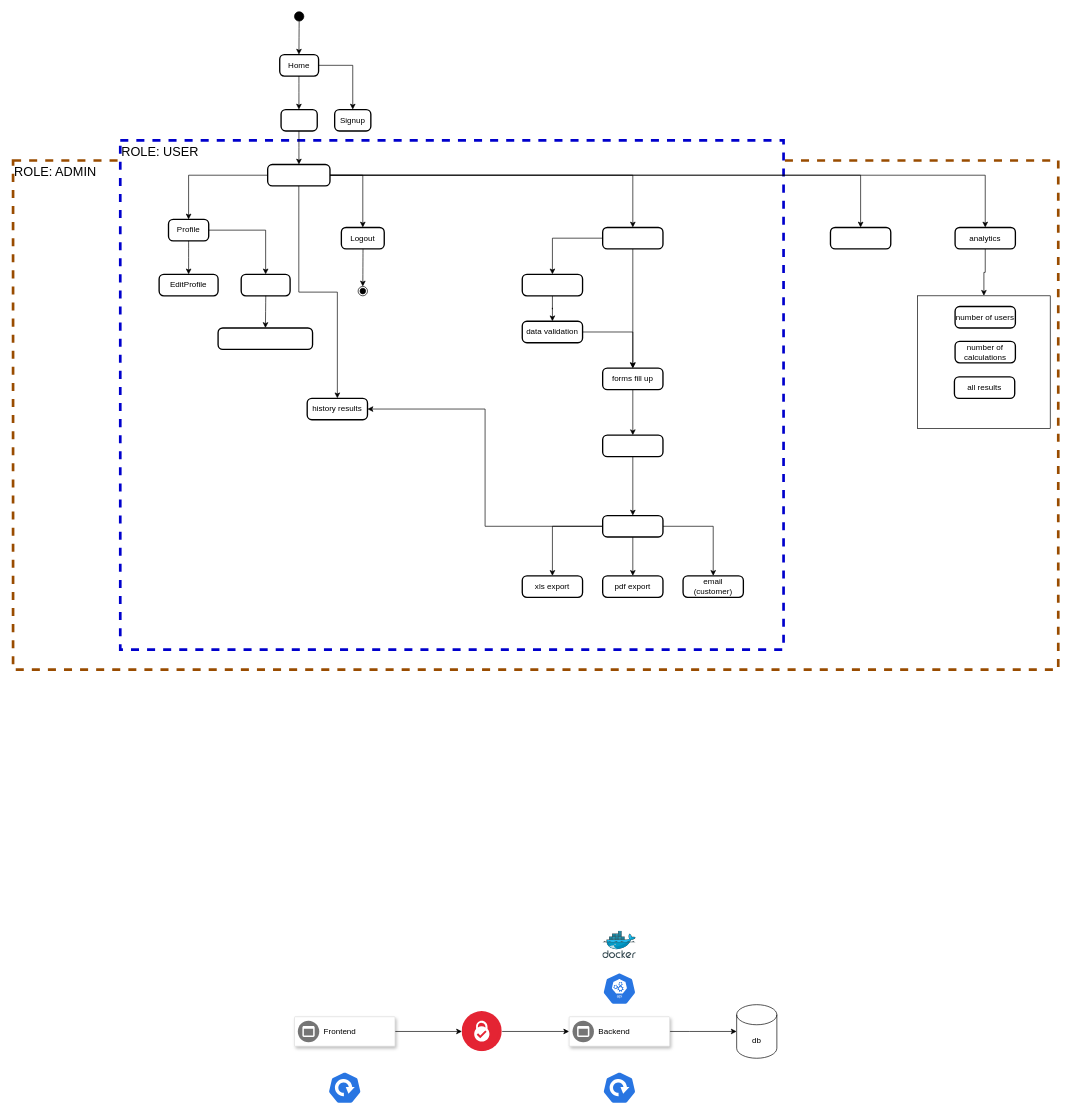
This 1071x1116 diagram has some shape labels left out. Here are the shapes that lost their labels. From the top down, the centre of each, then its label:
At pixel 299 120: "Login".
At pixel 298 174: "Dashboard".
At pixel 632 237: "Calculations".
At pixel 860 237: "all users results".
At pixel 265 284: "Settings".
At pixel 552 284: "import xls".
At pixel 265 338: "ChangePassword".
At pixel 632 445: "submit".
At pixel 632 526: "results".
